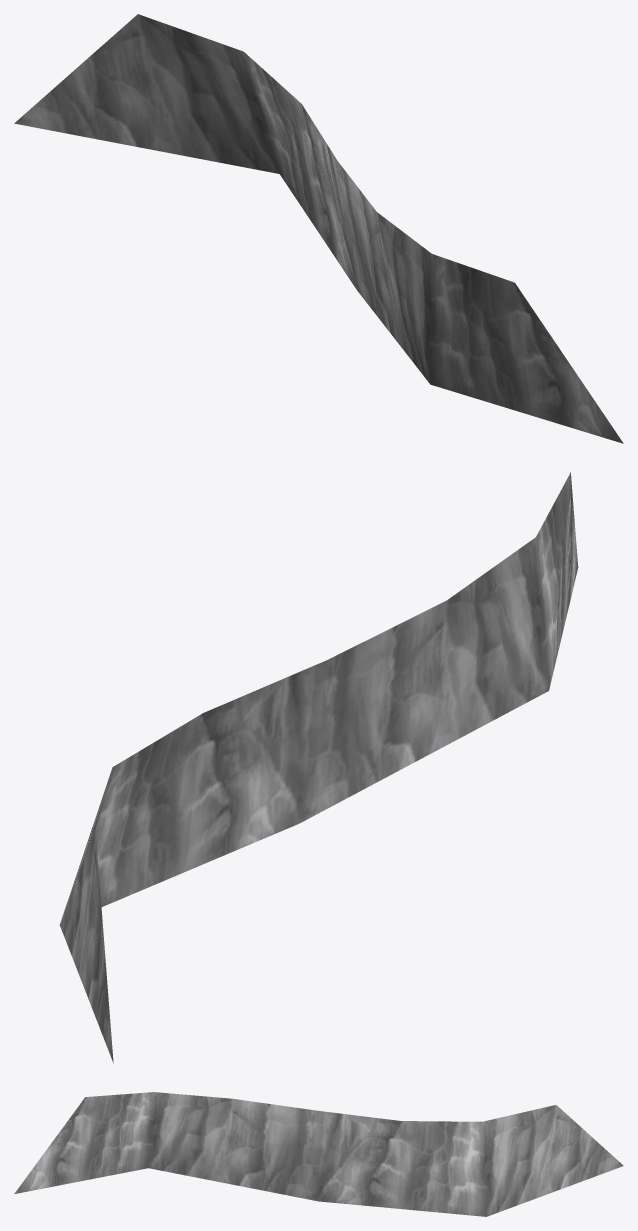
File: SWORDLIGHT20_PS-AREA03_80.fbx
3 views of the same model, one above another, from view 1: azimuth 30°, elevation 25°; view 2: azimuth 150°, elevation 25°; view 3: azimuth 270°, elevation 25° (orthographic). The views are drawn at different scales.
Parts seen in each view (by area): view 1: SWORDLIGHT20_PS-AREA03_80; view 2: SWORDLIGHT20_PS-AREA03_80; view 3: SWORDLIGHT20_PS-AREA03_80.
Boxes of the visible parts, x1,y1,x2,y2 form: SWORDLIGHT20_PS-AREA03_80: [14, 14, 623, 443]; SWORDLIGHT20_PS-AREA03_80: [60, 472, 578, 1063]; SWORDLIGHT20_PS-AREA03_80: [14, 1092, 623, 1216].
Size of the model in its own units: 26669 by 25308 by 147195.
Materials: 1 (1 with a texture image).
